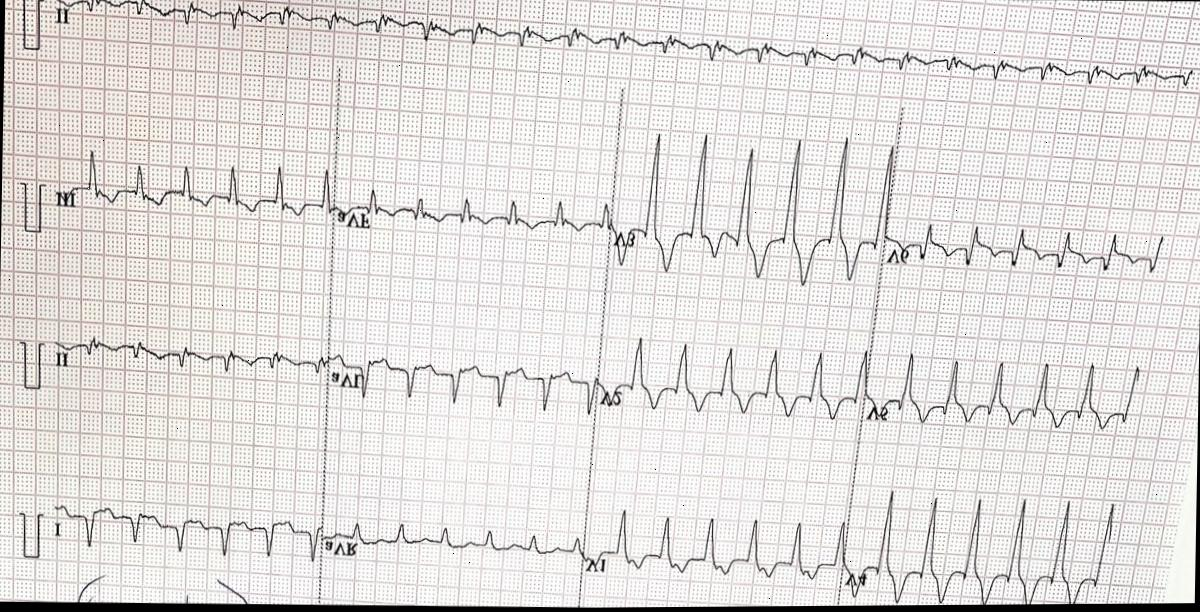Lead_I: (42, 488, 324, 572)
Lead_II: (41, 316, 331, 404)
Lead_III: (46, 146, 336, 235)
Lead_II_ext: (43, 0, 1200, 99)
Lead_V1: (580, 498, 849, 608)
Lead_V2: (594, 330, 872, 432)
Lead_V3: (610, 125, 898, 304)
Lead_V4: (840, 481, 1124, 607)
Lead_V5: (859, 335, 1161, 459)
Lead_V6: (876, 207, 1172, 308)
Lead_aVF: (336, 176, 616, 243)
Lead_aVL: (327, 352, 602, 419)
Lead_aVR: (317, 505, 584, 582)
